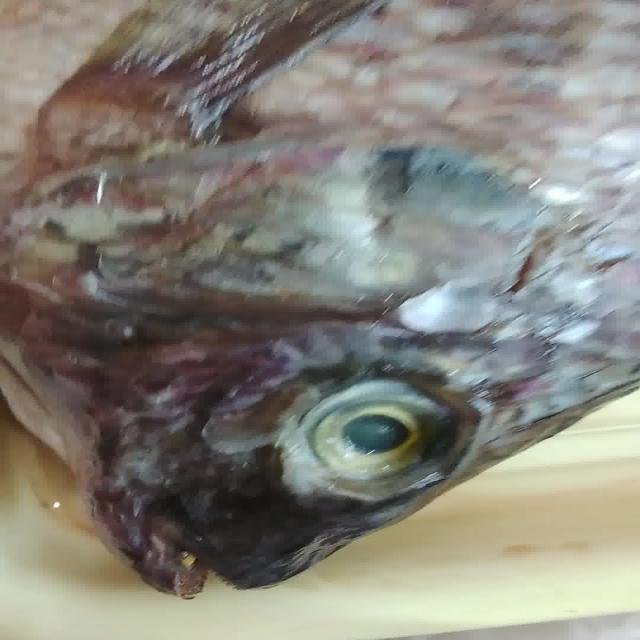Non-Fresh: (12, 14, 622, 362), (279, 371, 478, 499)
